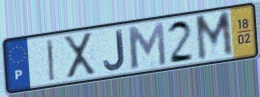2: (165, 19, 195, 64)
I: (45, 37, 56, 83)
J: (102, 28, 127, 72)
M: (193, 9, 236, 64), (125, 21, 169, 71)
X: (61, 31, 98, 81)
